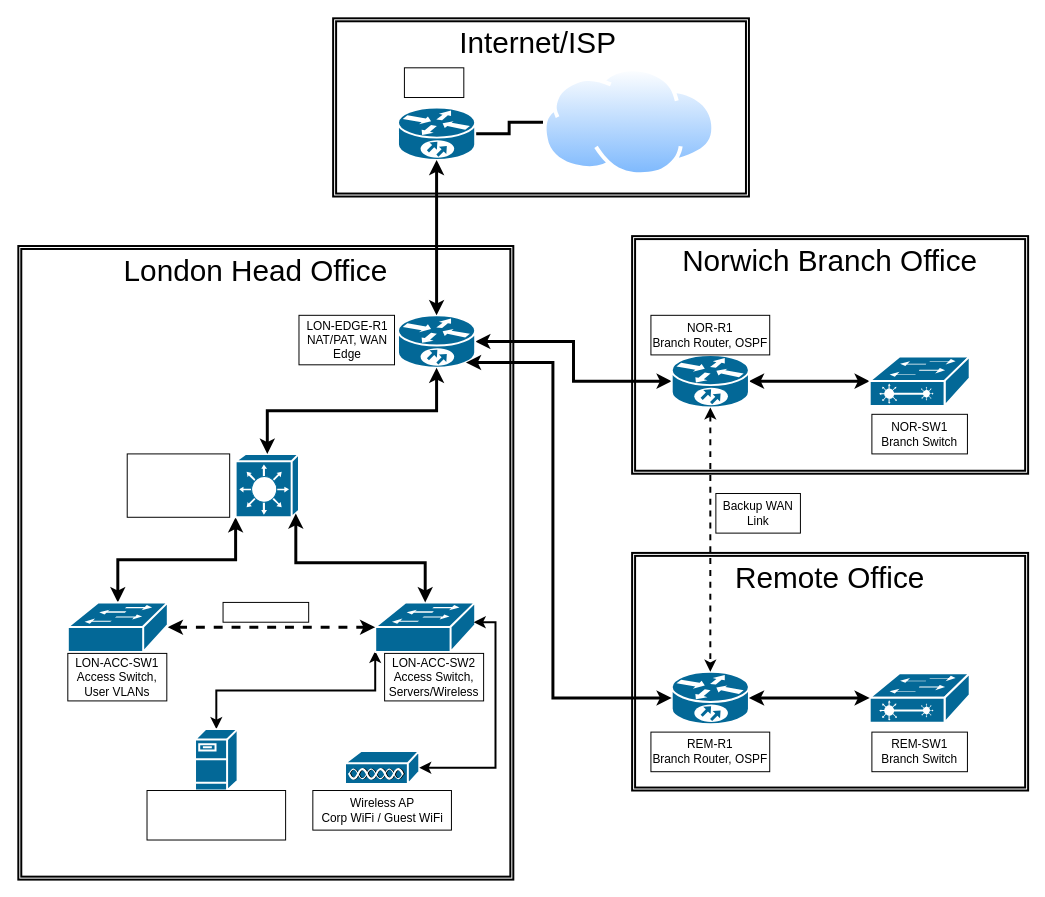
Some shapes in this 1045 by 897 pixel diagram are drawn without their labels. The shapes that lost their labels are listed below. From the top down, each one's centre as x and y in pixels, then its label:
[433,82]: ISP-R1
[178,485]: LON-CORE-SW1 Core Switch, Inter-VLAN Routing, SVIs
[265,611]: EtherChannel
[216,815]: DHCP/DNS/Web Server (Server VLAN)
